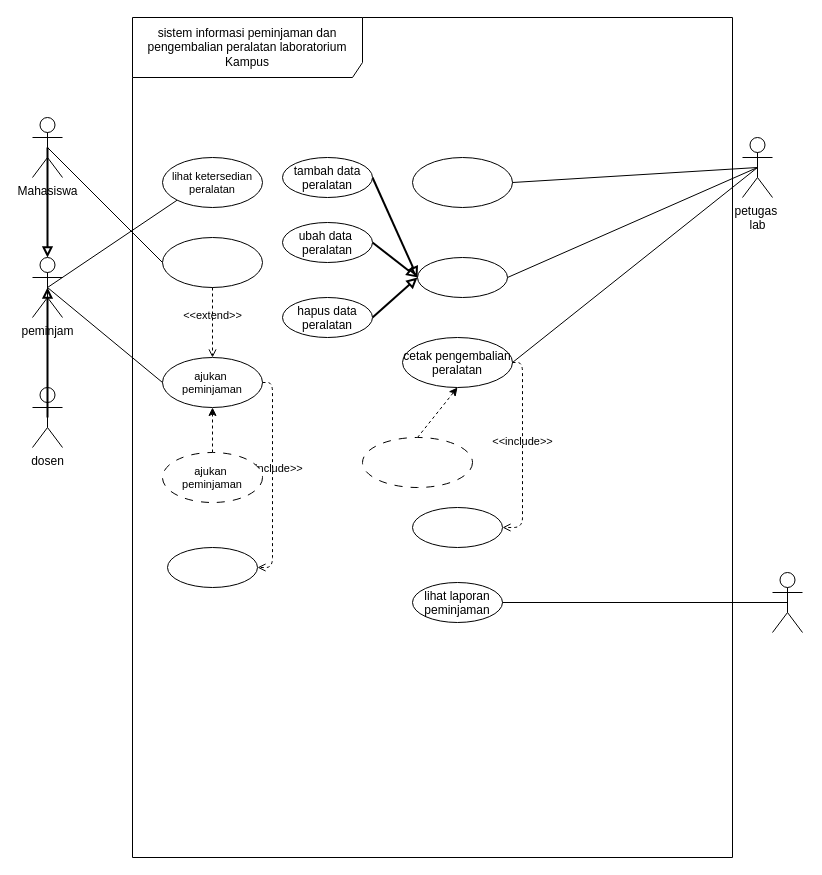
Image size: 822x875. Some labels were removed from this diagram. The centre of each missing label's shape, as x and y in pixels:
"catat pengembalian peralatan" belongs at point (417, 462).
"cetak bukti pengajuan" belongs at point (212, 262).
"kelola data peralatan" belongs at point (462, 277).
"kepala lab" belongs at point (787, 602).
"periksa ketersediaan" belongs at point (212, 567).
"priksa kondisi peralatan" belongs at point (457, 527).
"proses keputusan peminjaman" belongs at point (462, 182).
